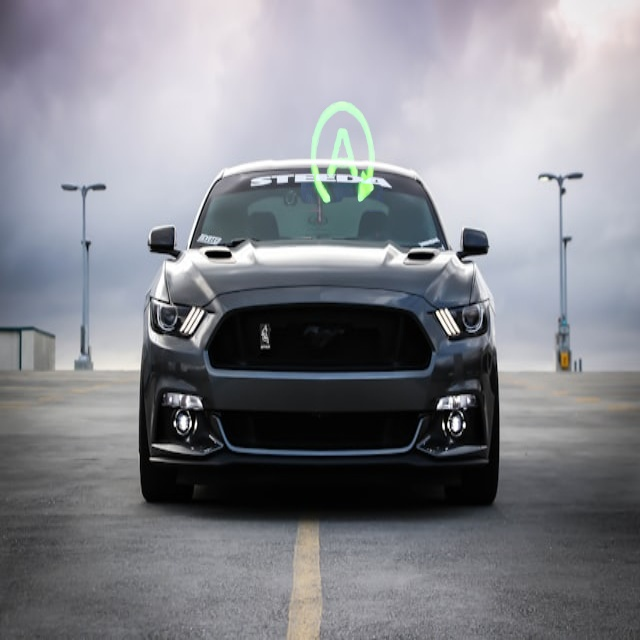symbol: (234, 43, 444, 253)
